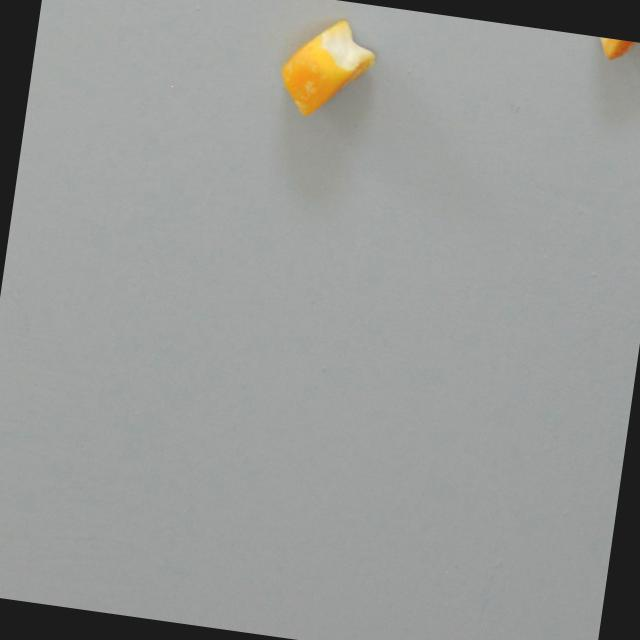dañado: (590, 35, 640, 64)
pelicula: (273, 8, 382, 128)
